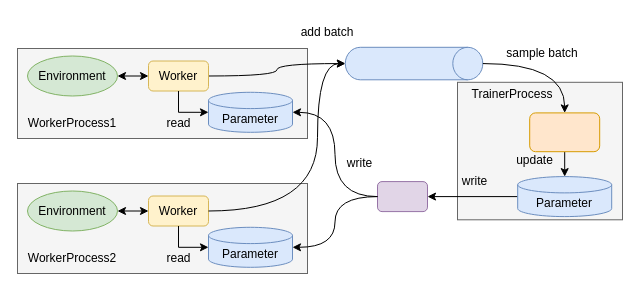
This 640x291 diagram has some shape labels left out. Each missing label, with the centre of its shape:
"Board" goes at point 402,196.
"RemoteMemory" goes at point 413,63.
"Trainer" goes at point 564,132.
